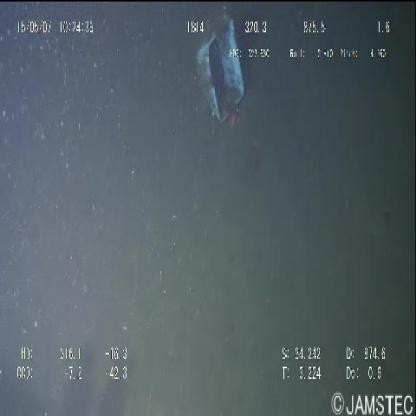Rác: (192, 8, 248, 129)
